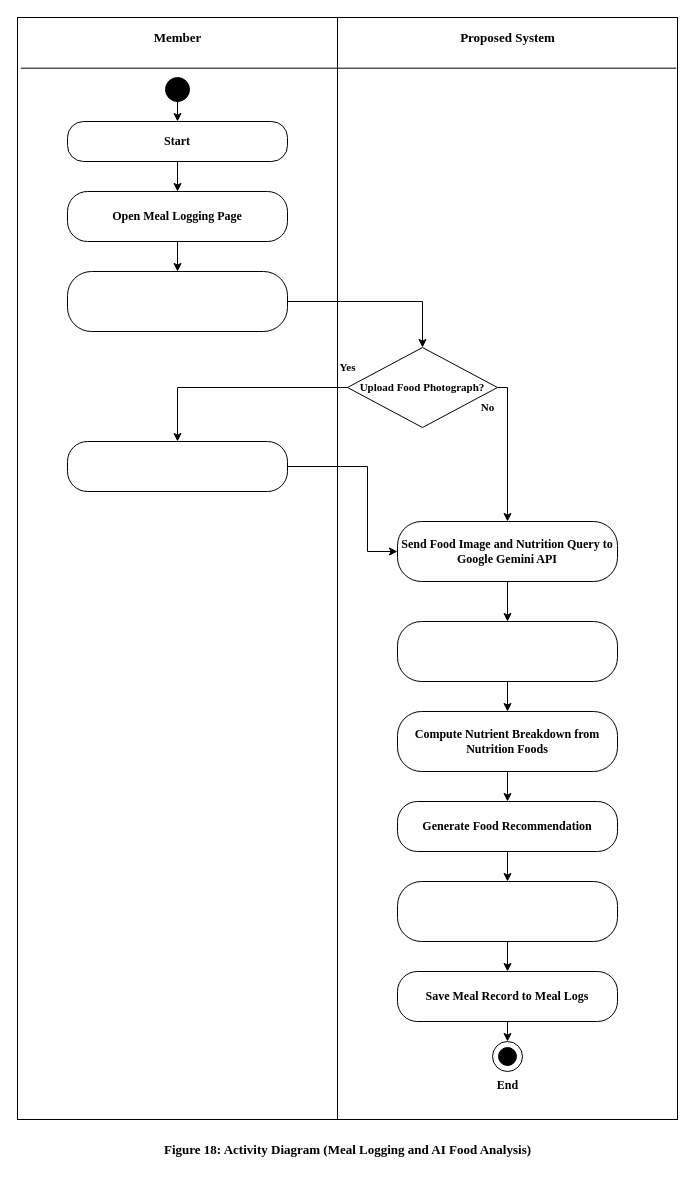
Image size: 695x1182. Some labels were removed from this diagram. The shapes that lost their labels are listed below. From the top down, each one's box as (x1, y1, x2, y2) in pixels, then its label:
(66, 270, 288, 332): Enter Meal Details (Food Name, Meal Type, and Calories)
(66, 440, 288, 492): Capture or Upload Food Photograph
(396, 620, 618, 682): Receive Recognized Food Item from Gemini API
(396, 880, 618, 942): Display Nutrient Breakdown and Food Recommendation
